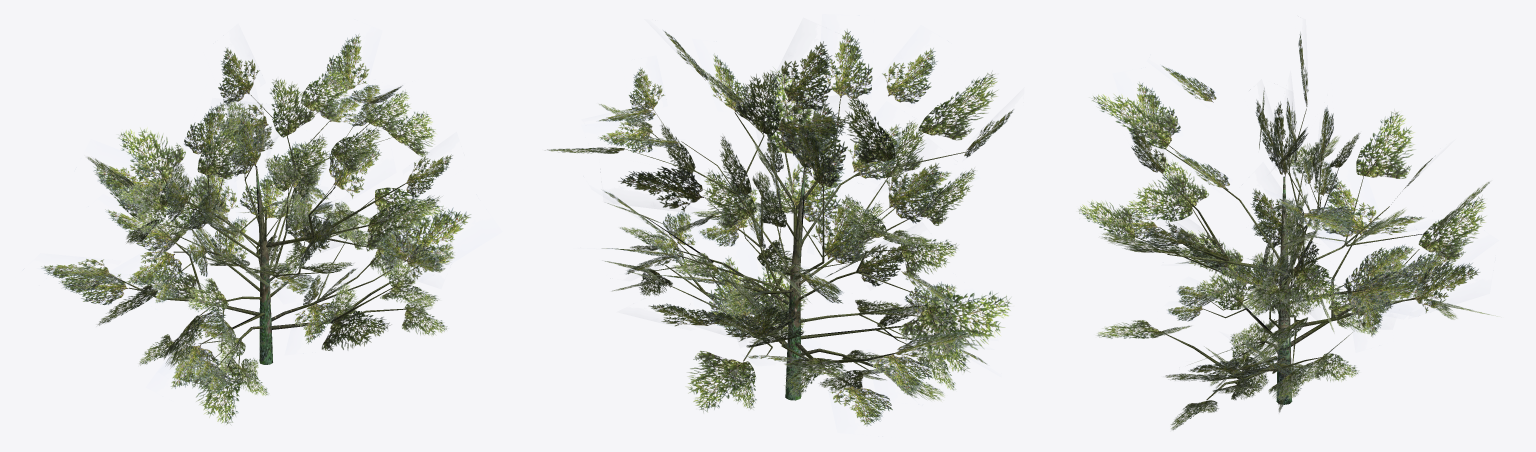
File: TreeA_Optimised_28_June_2018_A01.babylon.gltf
3 views of the same model, side by side, from view 1: azimuth 30°, elevation 25°; view 2: azimuth 150°, elevation 25°; view 3: azimuth 270°, elevation 25° (orthographic). The views are drawn at different scales.
Parts seen in each view (by area): view 1: Branches, Plane020, Plane094, Group001, Plane095, Loft001, Plane067, Plane009, Plane042, Plane052, Plane046, Plane093 (+53 smaller); view 2: Branches, Plane054, Group001, Plane081, Plane085, Plane060, Plane043, Loft001, Plane033, Plane075, Plane044, Plane097 (+51 smaller); view 3: Plane092, Branches, Group001, Plane081, Plane102, Plane113, Plane039, Plane087, Loft001, Plane105, Plane088, Plane080 (+39 smaller).
Part boxes in pixels (bbox=[...]): Branches: bbox=[158, 95, 419, 370]; Plane020: bbox=[392, 207, 471, 270]; Plane094: bbox=[116, 127, 185, 188]; Group001: bbox=[113, 164, 404, 340]; Plane095: bbox=[366, 195, 442, 251]; Loft001: bbox=[255, 166, 272, 364]; Plane067: bbox=[197, 115, 243, 179]; Plane009: bbox=[191, 365, 242, 425]; Plane042: bbox=[301, 60, 352, 121]; Plane052: bbox=[269, 78, 314, 137]; Plane046: bbox=[321, 311, 391, 351]; Plane093: bbox=[93, 159, 162, 213]; Branches: bbox=[625, 79, 942, 375]; Plane054: bbox=[922, 290, 1013, 358]; Group001: bbox=[719, 98, 967, 385]; Plane081: bbox=[918, 70, 998, 140]; Plane085: bbox=[685, 350, 750, 413]; Plane060: bbox=[898, 304, 970, 374]; Plane043: bbox=[775, 41, 832, 111]; Loft001: bbox=[785, 169, 805, 400]; Plane033: bbox=[618, 166, 703, 212]; Plane075: bbox=[884, 163, 942, 223]; Plane044: bbox=[776, 104, 848, 157]; Plane097: bbox=[821, 29, 872, 98]; Plane092: bbox=[1356, 108, 1415, 178]; Branches: bbox=[1159, 108, 1415, 400]; Group001: bbox=[1134, 145, 1430, 346]; Plane081: bbox=[1088, 93, 1177, 149]; Plane102: bbox=[1418, 194, 1486, 261]; Plane113: bbox=[1126, 174, 1192, 221]; Plane039: bbox=[1279, 264, 1344, 308]; Plane087: bbox=[1413, 260, 1480, 313]; Loft001: bbox=[1276, 176, 1292, 404]; Plane105: bbox=[1319, 179, 1381, 236]; Plane088: bbox=[1362, 271, 1425, 307]; Plane080: bbox=[1076, 199, 1134, 241].
Size of what is drawn, in the model's own units: 62.79 by 53.07 by 55.82.
4 materials, 4 textured.
